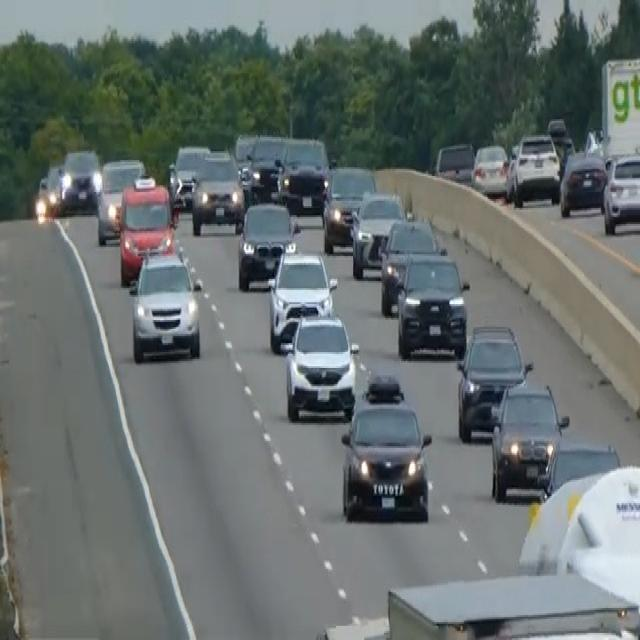car: (339, 375, 432, 523), (489, 379, 569, 501), (455, 322, 531, 442), (128, 245, 203, 363), (284, 309, 359, 423), (395, 249, 469, 359), (266, 242, 337, 352), (116, 178, 177, 284), (379, 213, 442, 315), (236, 197, 300, 290), (539, 438, 620, 502), (350, 189, 405, 279), (321, 162, 376, 252), (190, 148, 245, 235), (95, 157, 145, 246), (277, 133, 330, 215), (510, 130, 560, 204), (559, 147, 607, 217), (602, 149, 639, 235), (243, 131, 285, 201), (59, 146, 101, 212), (170, 142, 210, 208), (471, 140, 510, 198), (434, 139, 475, 185), (34, 162, 63, 220), (546, 114, 574, 164), (232, 130, 256, 178)
lorry: (598, 53, 639, 162)
